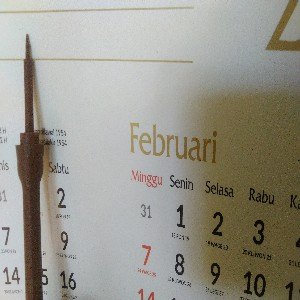solder: (14, 31, 45, 300)
